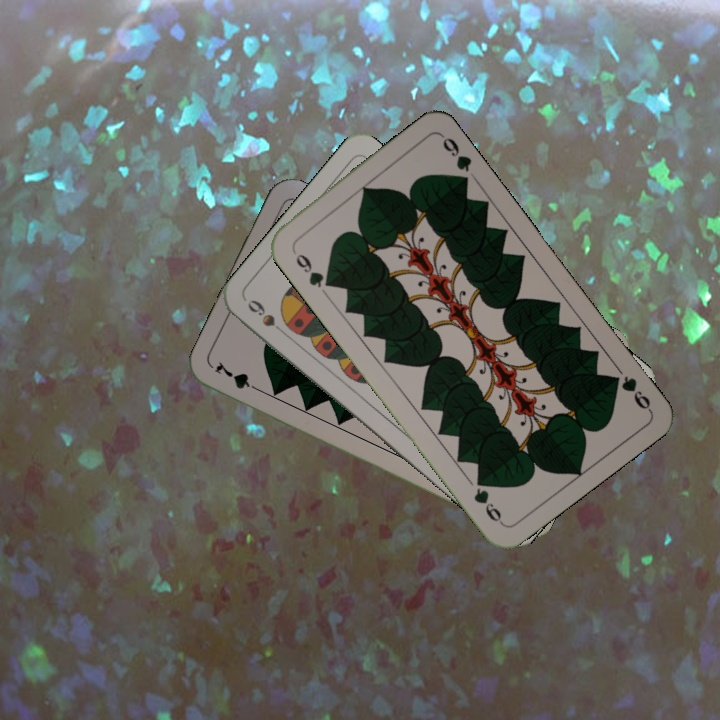G7: (210, 358, 266, 396)
G9: (604, 371, 653, 414), (291, 249, 335, 290)
S9: (243, 295, 291, 340)
